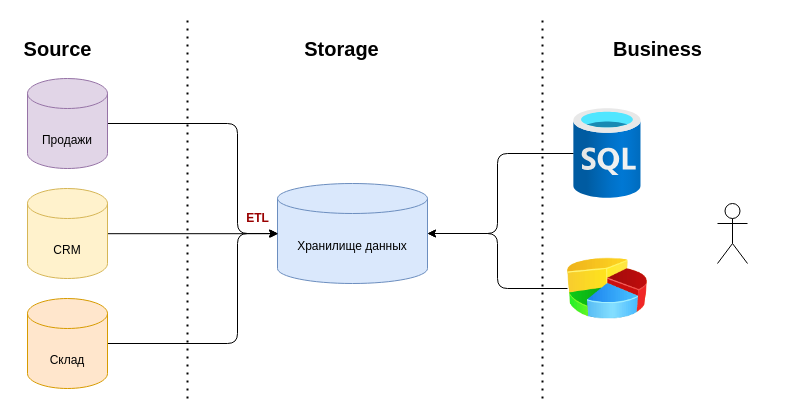
Image size: 788x417. Some labels were removed from this diagram. The shapes that lost their labels are listed below. From the top down, each one's box as (x1, y1, x2, y2) in pixels, then its label:
(716, 202, 748, 264): Пользователь
(567, 248, 647, 328): Business intelligence
